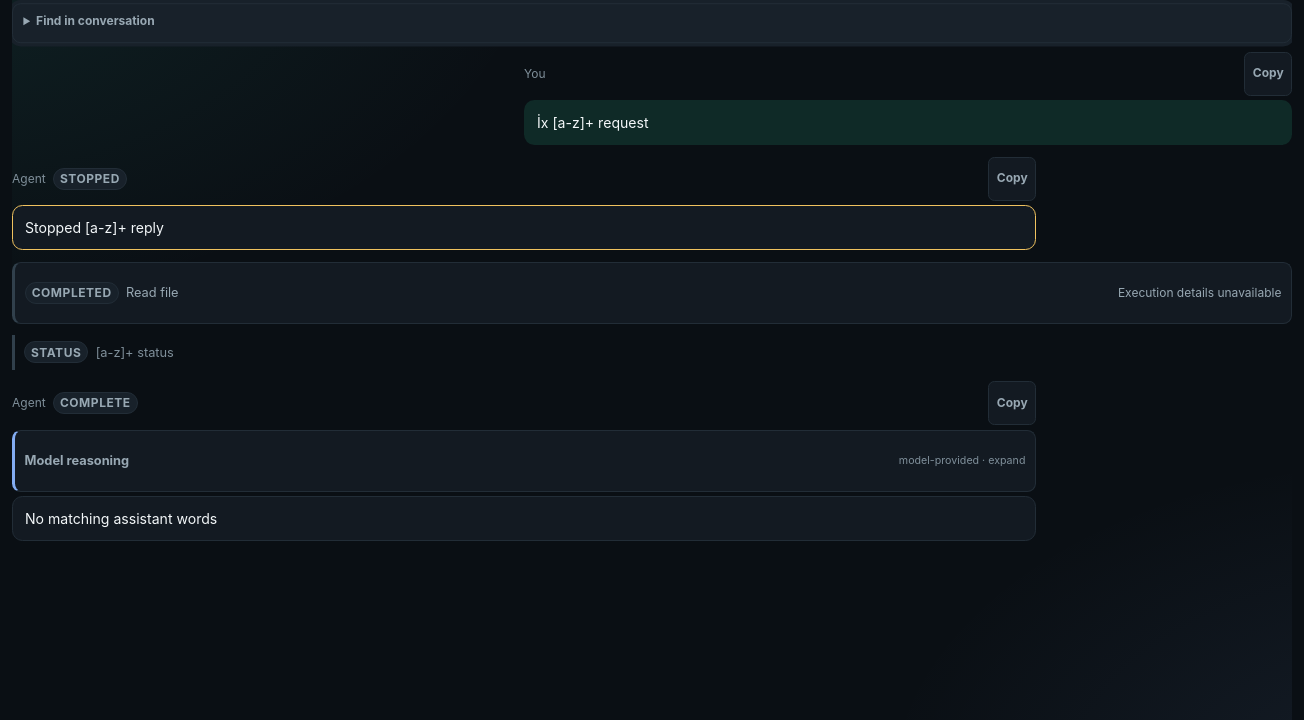
Test: TranscriptEventRows local conversation navigation › finds literal Unicode text in loaded user and stopped assistant messages, excluding other activity
This screenshot has width=1304, height=720.
Click the heading "Find in conversation".
click(95, 20)  # box [36,13,155,28]
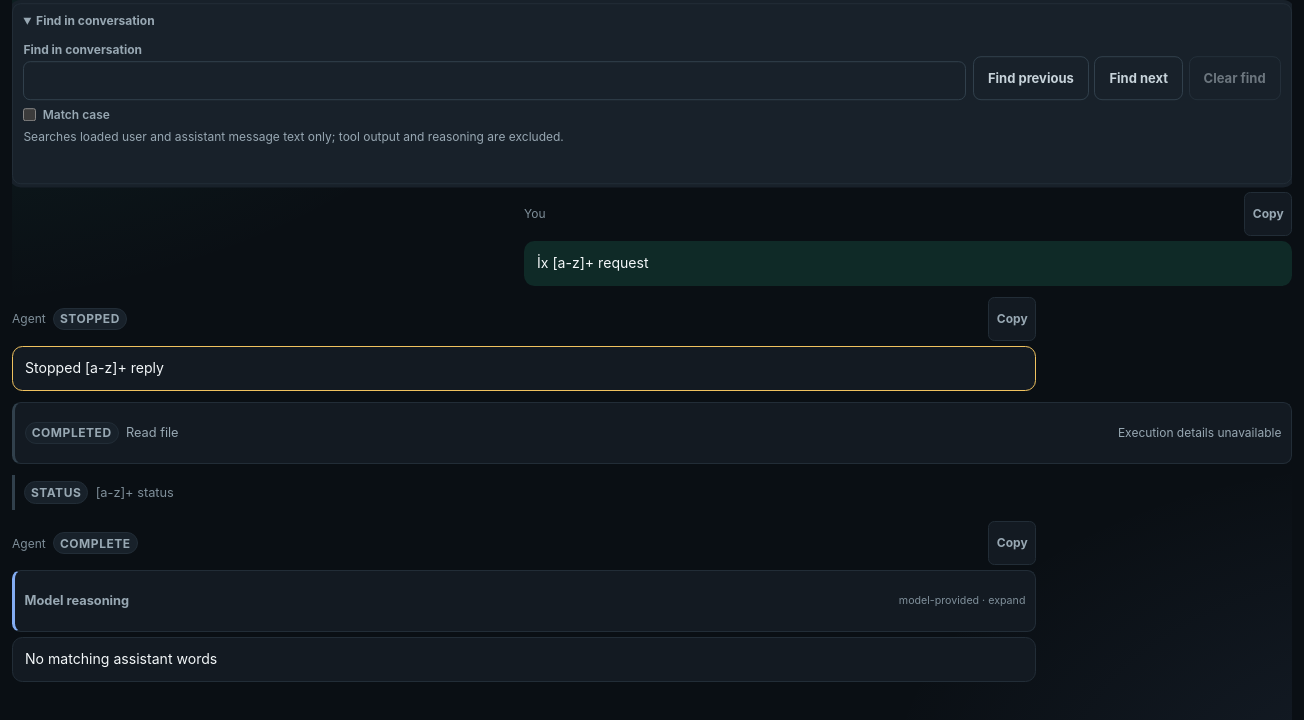
Expected: the text "Searches loaded user and assistant message text only; tool output and reasoning are excluded." is shown, [23,129,564,144]
Type "[a-z]+" into the search field labelled "Find in conversation".
click(495, 81); type("[a-z]+")  # box [23,62,966,100]
Click the button "Find next".
click(1139, 78)  # box [1094,56,1183,100]
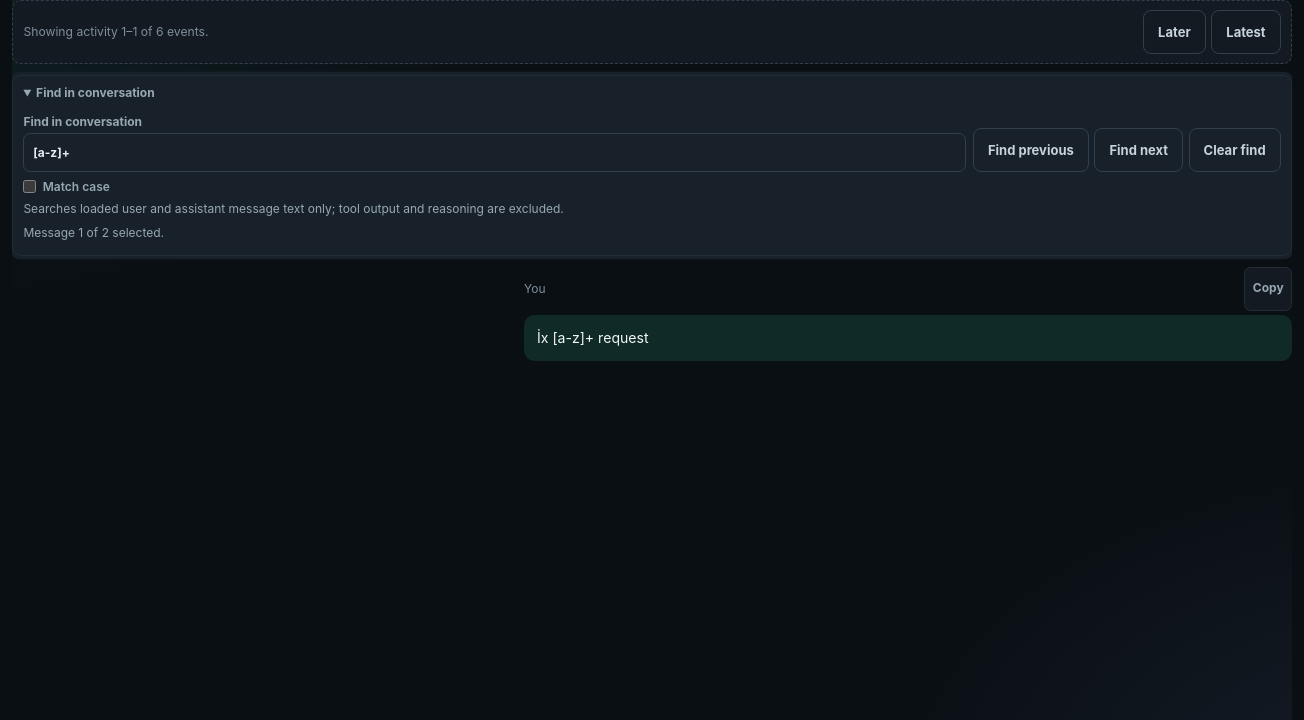
Expected: the message reads "Message 1 of 2 selected.", [23,225,164,240]
Press Enter in the search field labelled "Find in conversation", box [23,133,966,172]
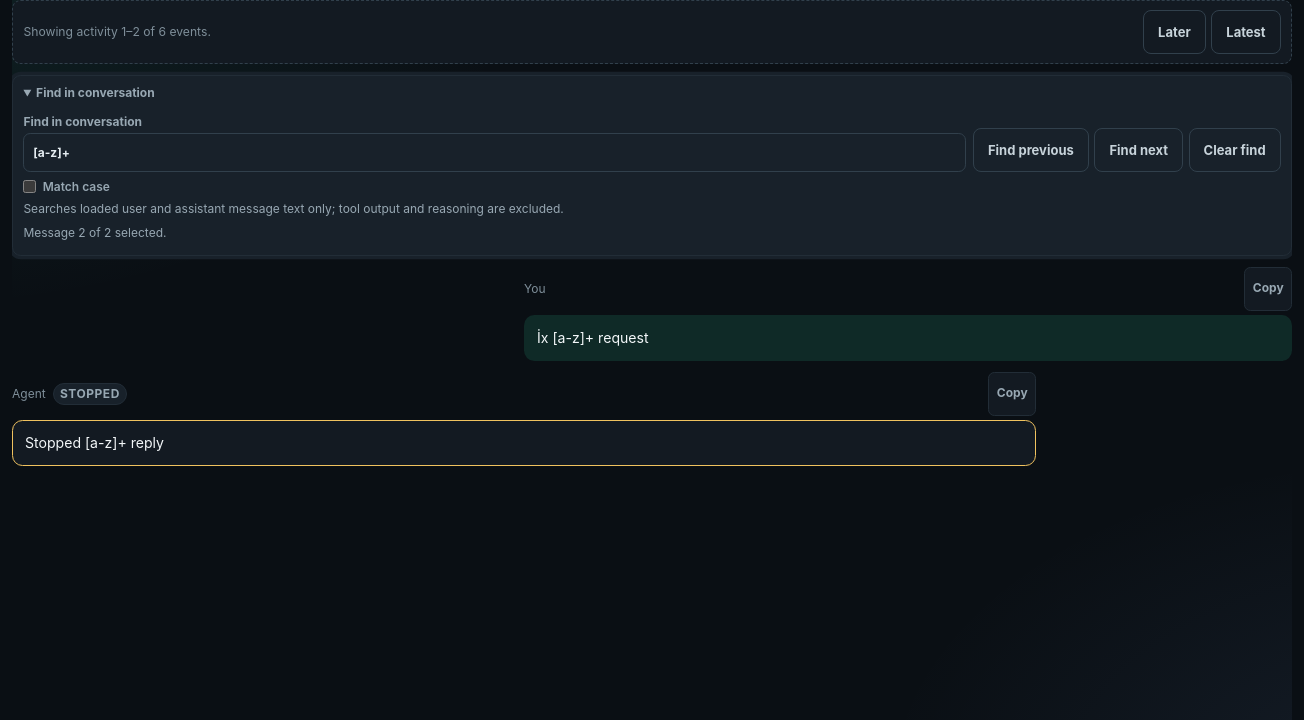
Expected: the message reads "Message 2 of 2 selected.", [23,225,166,240]
Press Enter in the search field labelled "Find in conversation", box [23,133,966,172]
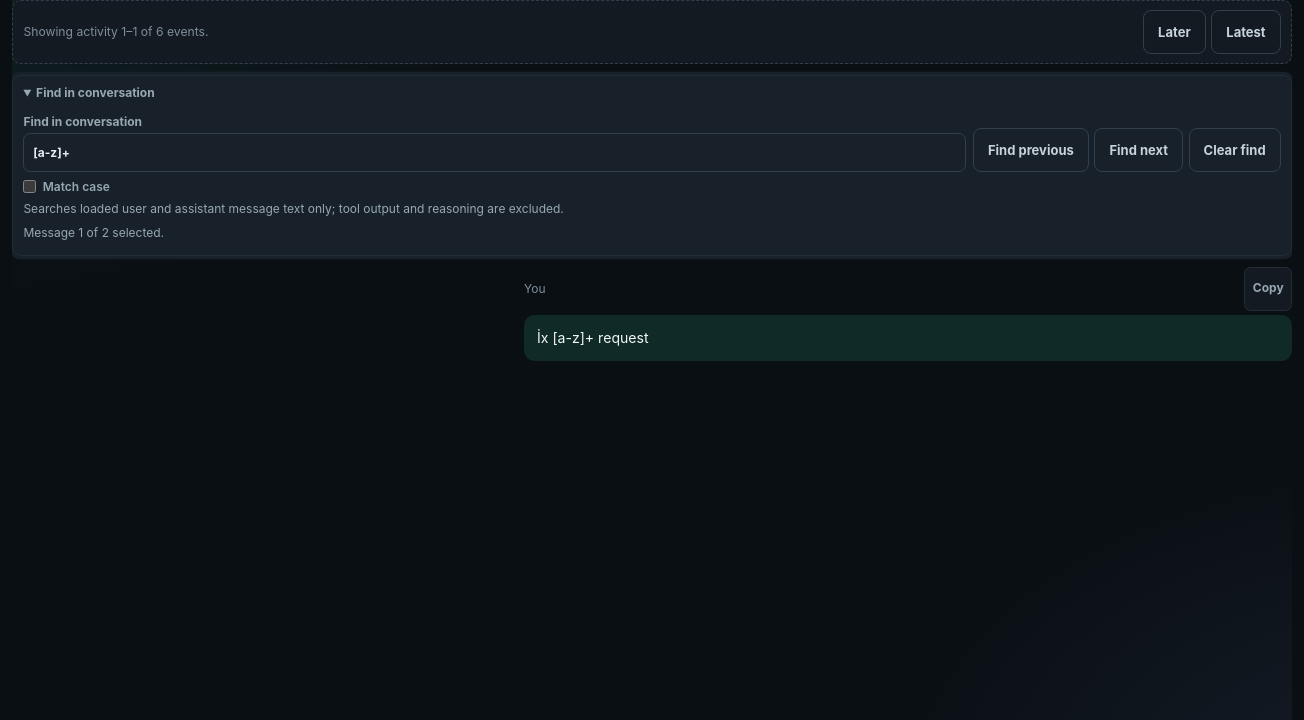
Expected: the message reads "Message 1 of 2 selected.", [23,225,164,240]
Replace the text in the search field labelled "Find in conversation" with "İx" at (495, 152), box [23,133,966,172]
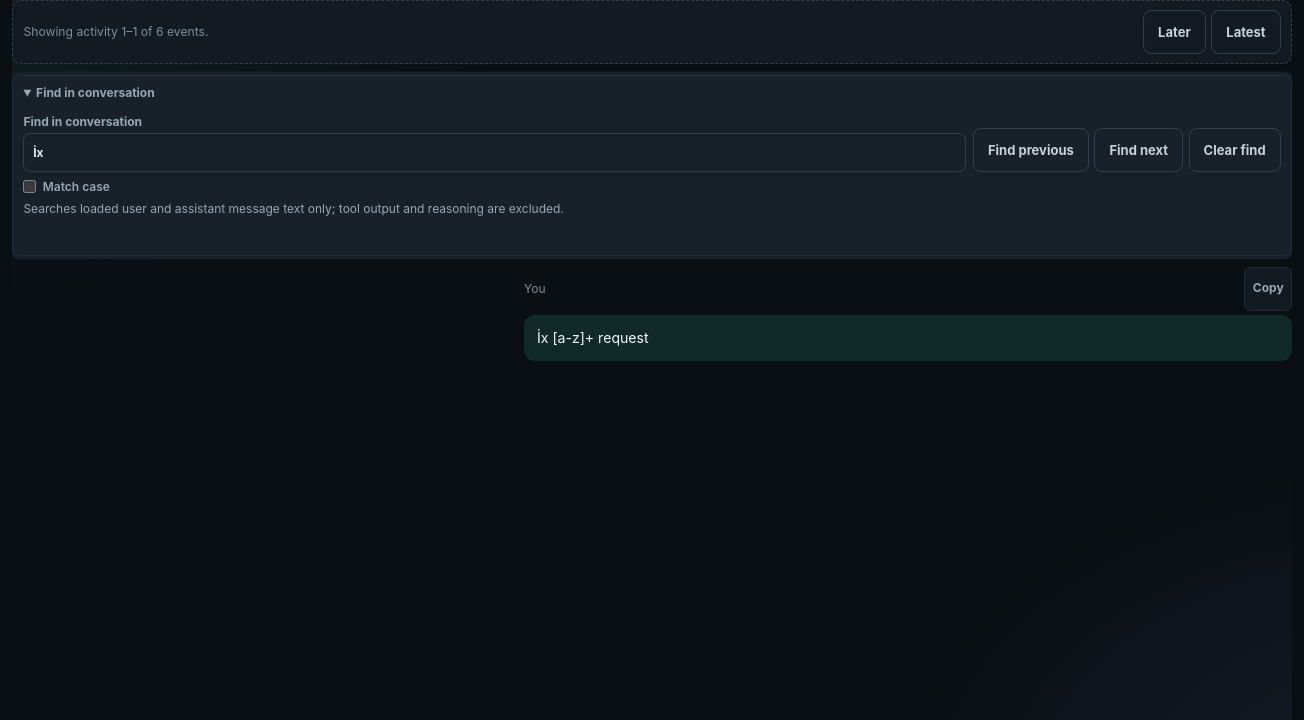
Click the button "Find next".
click(1139, 150)  # box [1094,128,1183,172]
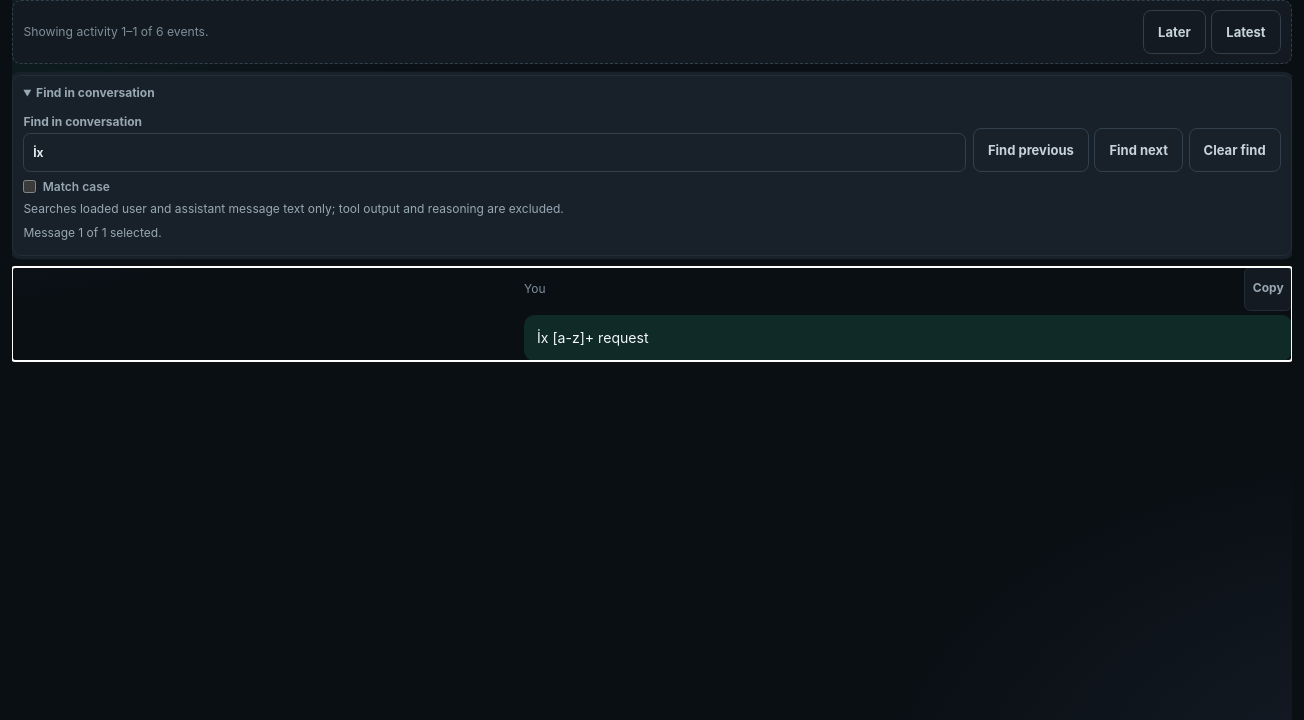
Expected: the message reads "Message 1 of 1 selected.", [23,225,162,240]
